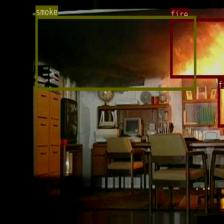fire: (169, 18, 224, 77), (217, 78, 224, 126)
smoke: (35, 16, 196, 90)
